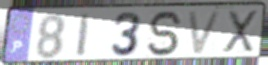3: (110, 11, 145, 59)
8: (35, 12, 68, 60)
I: (74, 12, 93, 59)
S: (147, 10, 185, 59)
V: (186, 9, 225, 57)
X: (220, 9, 260, 55)
